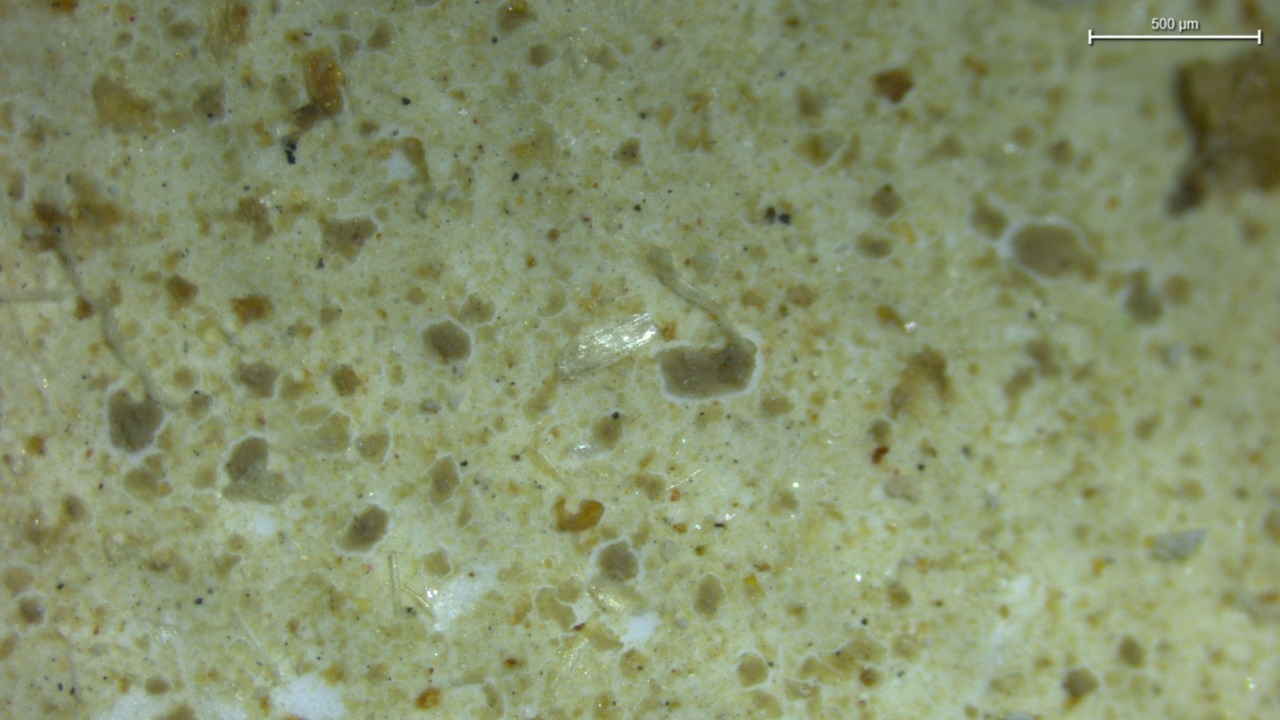microplastic_fragment: (558, 313, 659, 378)
